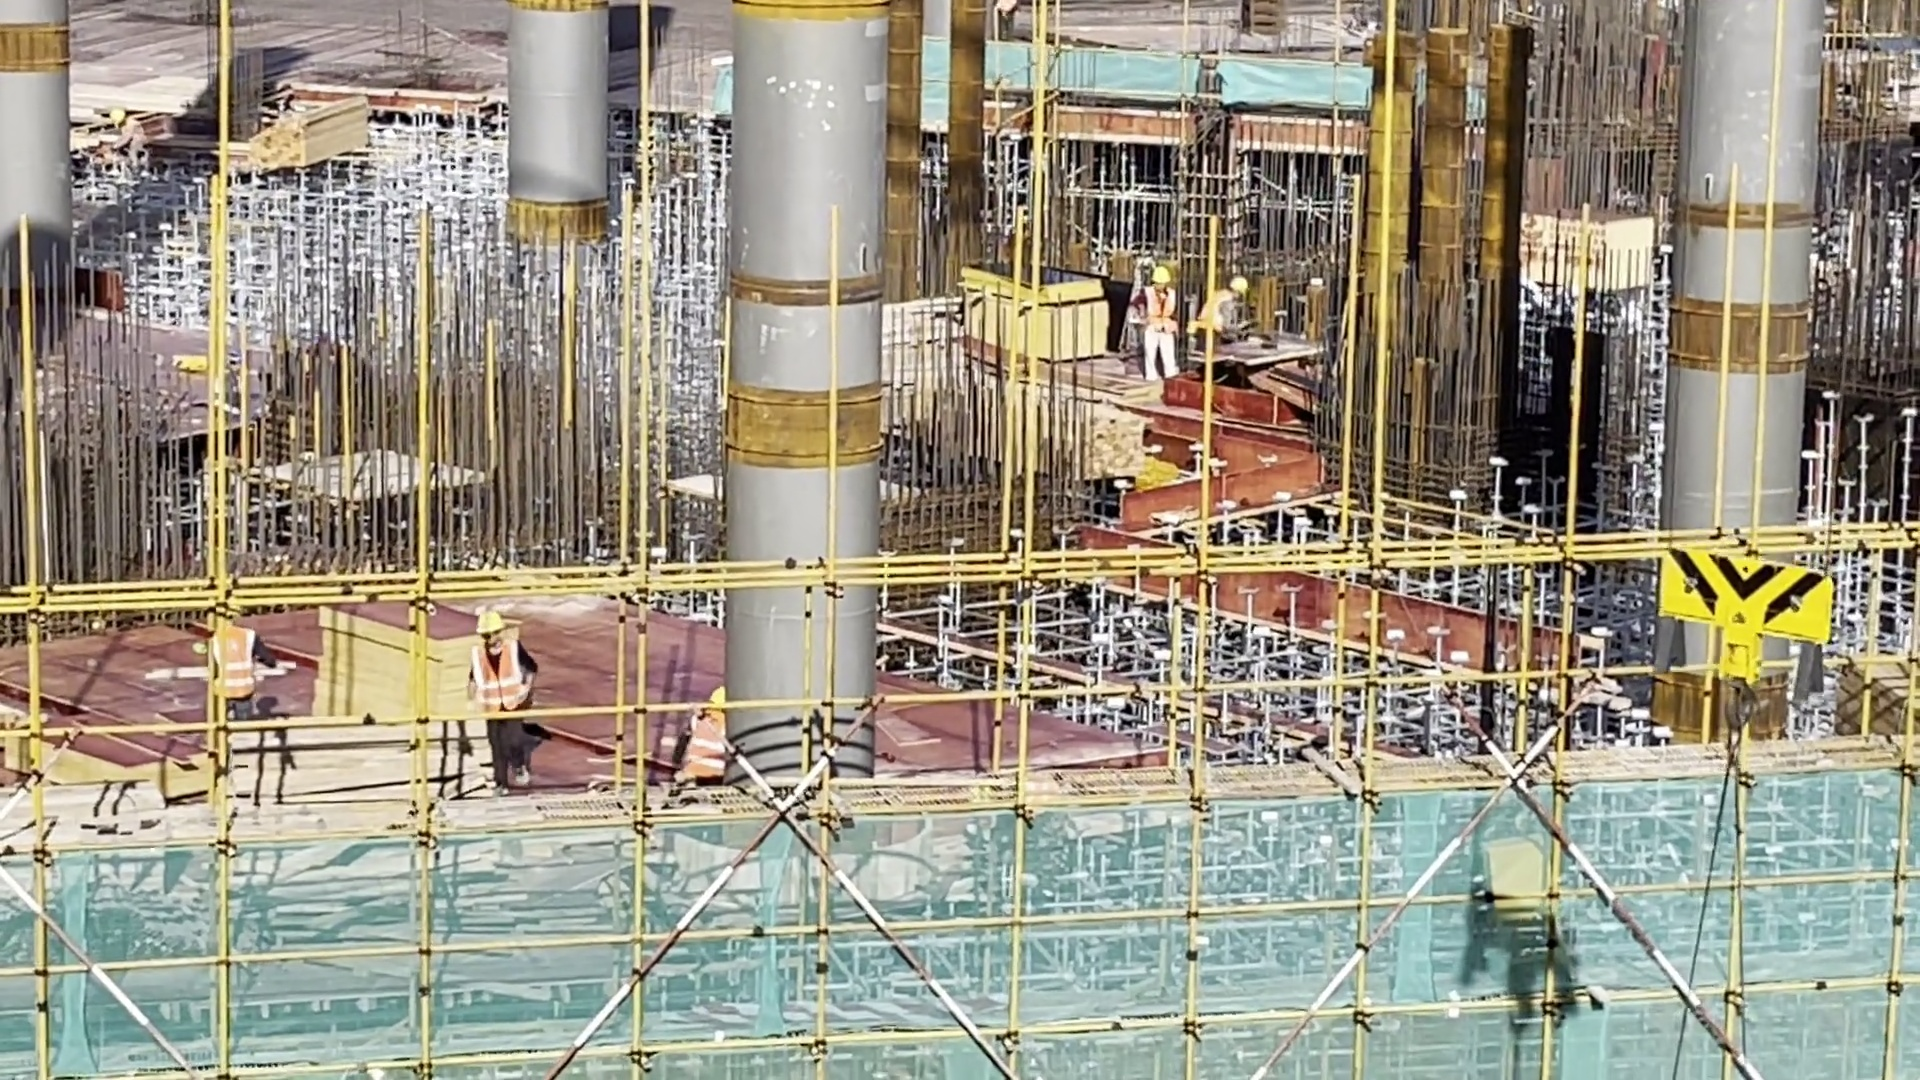board: (304, 586, 479, 752), (959, 240, 1115, 379)
ebox: (1484, 831, 1576, 1012)
helmet: (1148, 264, 1175, 297), (1227, 276, 1251, 301)
hook: (1643, 534, 1848, 699)
person: (462, 604, 540, 795), (1129, 254, 1193, 390), (205, 601, 269, 734), (669, 680, 737, 799), (1193, 276, 1270, 365), (471, 609, 510, 637), (707, 684, 732, 716)
vest: (464, 638, 531, 711), (680, 706, 738, 788), (207, 617, 261, 705), (1141, 285, 1181, 337), (1194, 292, 1234, 337)
wood: (212, 713, 483, 832), (245, 78, 391, 182)
